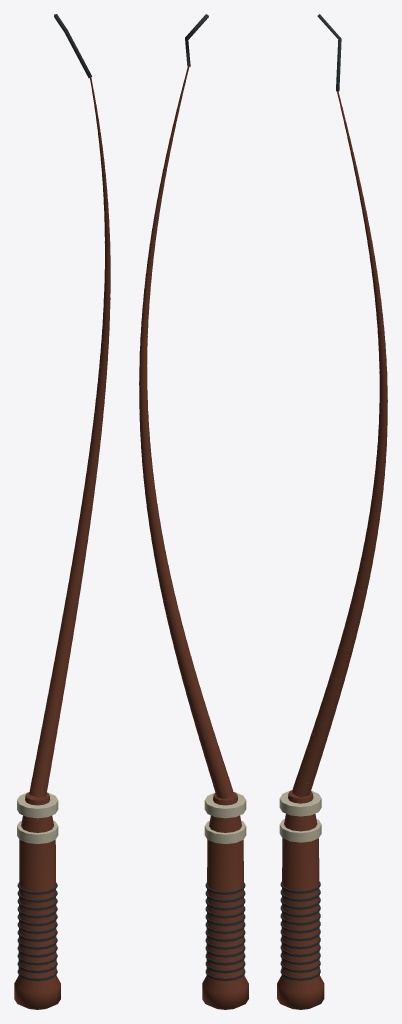
File: whip_lod1.glb
The picture shows the model from 3 angles, left to right: view 1: azimuth 30°, elevation 25°; view 2: azimuth 150°, elevation 25°; view 3: azimuth 330°, elevation 25°; orthographic projection.
Visible parts, largest first — view 1: whip; view 2: whip; view 3: whip.
Boxes of the visible parts, x1,y1,x2,y2 form: whip: [14, 14, 110, 1009]; whip: [139, 14, 248, 1009]; whip: [277, 14, 387, 1009].
Bounding box in the file's own units: 0.1319 × 1.26 × 0.0583.
